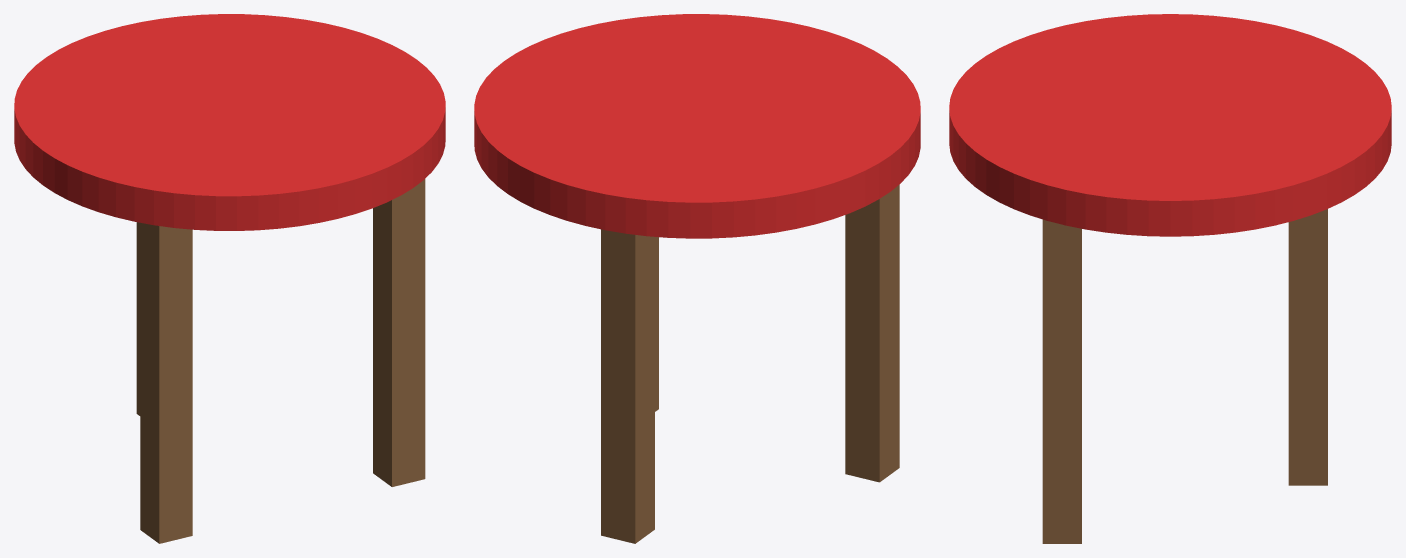
File: stool.glb
The picture shows the model from 3 angles, left to right: view 1: azimuth 30°, elevation 25°; view 2: azimuth 150°, elevation 25°; view 3: azimuth 270°, elevation 25°; orthographic projection. The views are drawn at different scales.
Parts seen in each view (by area): view 1: ClaudeTop, ClaudeLegA, ClaudeLegB, ClaudeLegC; view 2: ClaudeTop, ClaudeLegC, ClaudeLegA, ClaudeLegB; view 3: ClaudeTop, ClaudeLegB, ClaudeLegC.
Part boxes in pixels (left/top/right/bottom): ClaudeTop: left=14, top=14, right=445, bottom=230; ClaudeLegA: left=140, top=223, right=192, bottom=543; ClaudeLegB: left=373, top=179, right=425, bottom=486; ClaudeLegC: left=136, top=222, right=140, bottom=415; ClaudeTop: left=474, top=14, right=920, bottom=238; ClaudeLegC: left=601, top=229, right=654, bottom=543; ClaudeLegA: left=845, top=184, right=899, bottom=482; ClaudeLegB: left=655, top=237, right=658, bottom=411; ClaudeTop: left=949, top=14, right=1391, bottom=236; ClaudeLegB: left=1042, top=219, right=1081, bottom=543; ClaudeLegC: left=1288, top=209, right=1327, bottom=485.
Bounding box in the file's own units: 0.9 × 0.83 × 0.9.
